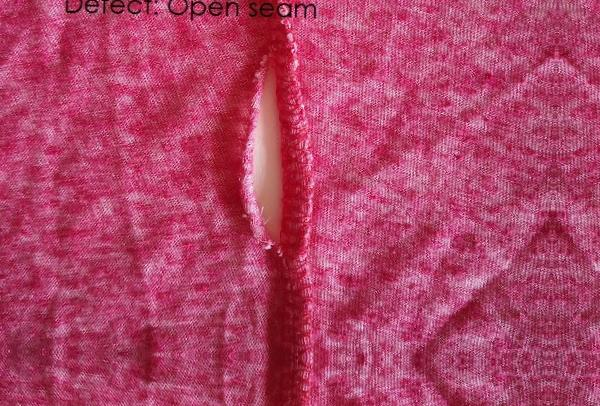hole: (234, 43, 313, 274)
